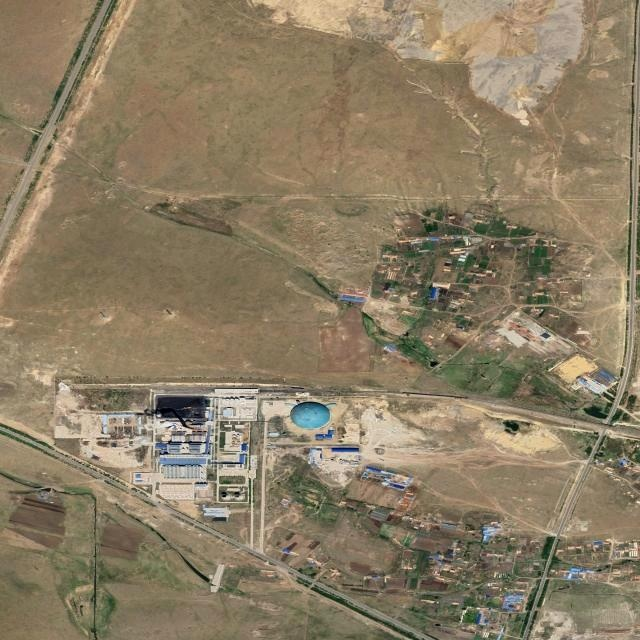coal_fired_power_plant: (150, 382, 257, 504)
